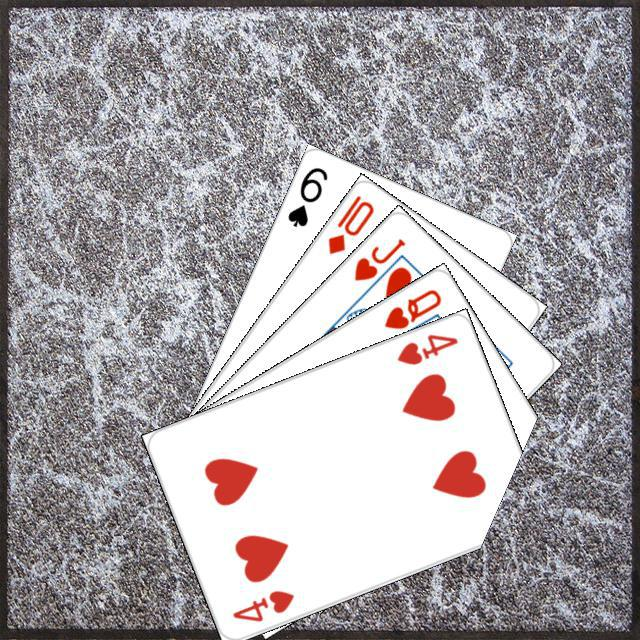10d: (322, 190, 376, 256)
4h: (227, 585, 296, 624), (392, 329, 460, 367)
6s: (282, 162, 330, 229)
Jh: (349, 233, 407, 283)
Qh: (379, 284, 443, 331)
